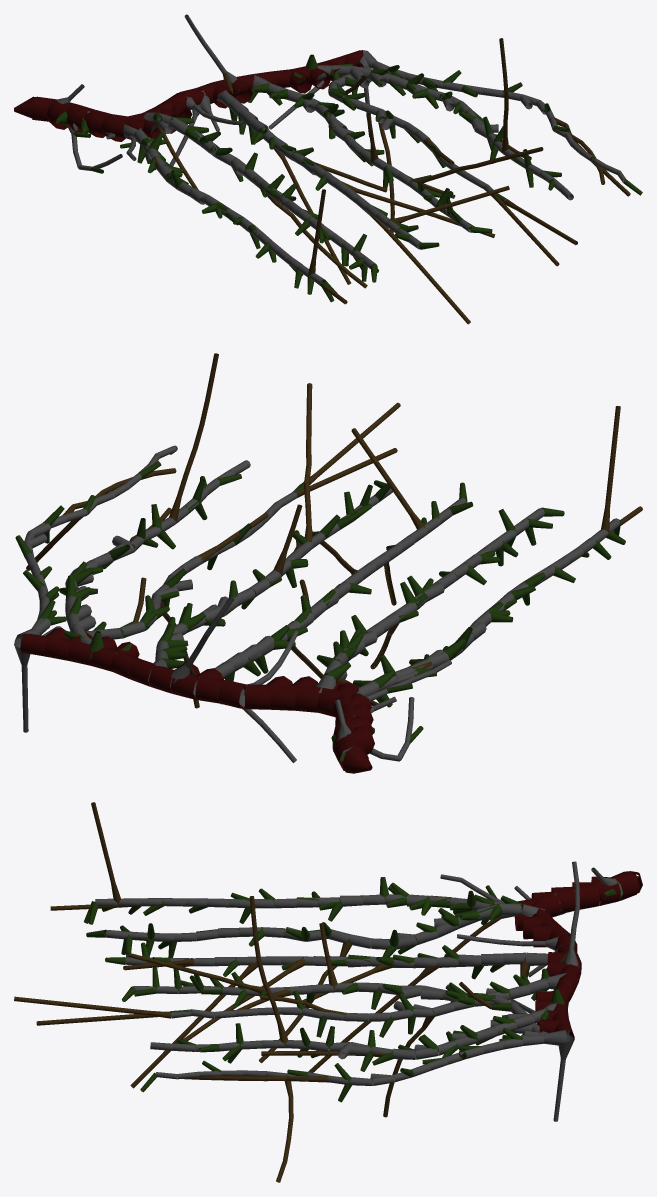
Rendered from tree_12.obj.
3 renders of one model, top to bottom at view 1: azimuth 30°, elevation 25°; view 2: azimuth 150°, elevation 25°; view 3: azimuth 270°, elevation 25°, orthographic. The views are drawn at different scales.
Size of the model in its own units: 24.5 by 12.19 by 27.91.
